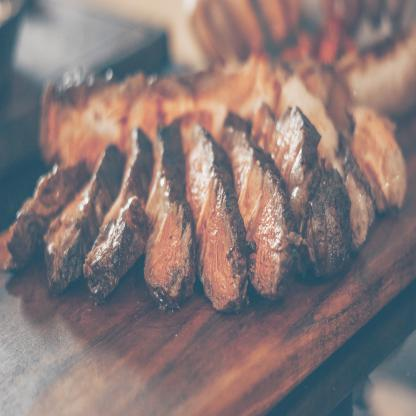Carne: (255, 102, 375, 262), (181, 106, 252, 310), (222, 97, 291, 292), (87, 117, 158, 301), (42, 130, 124, 288), (134, 116, 198, 313), (0, 147, 93, 267)
